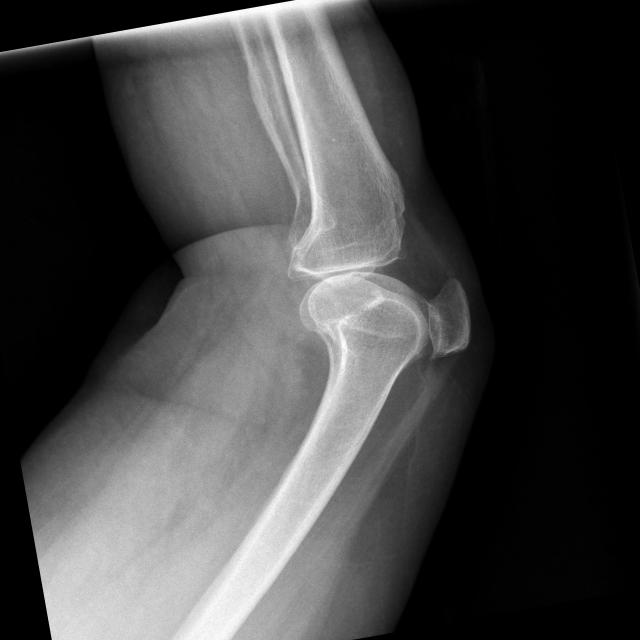Knee: (273, 186, 478, 384)
